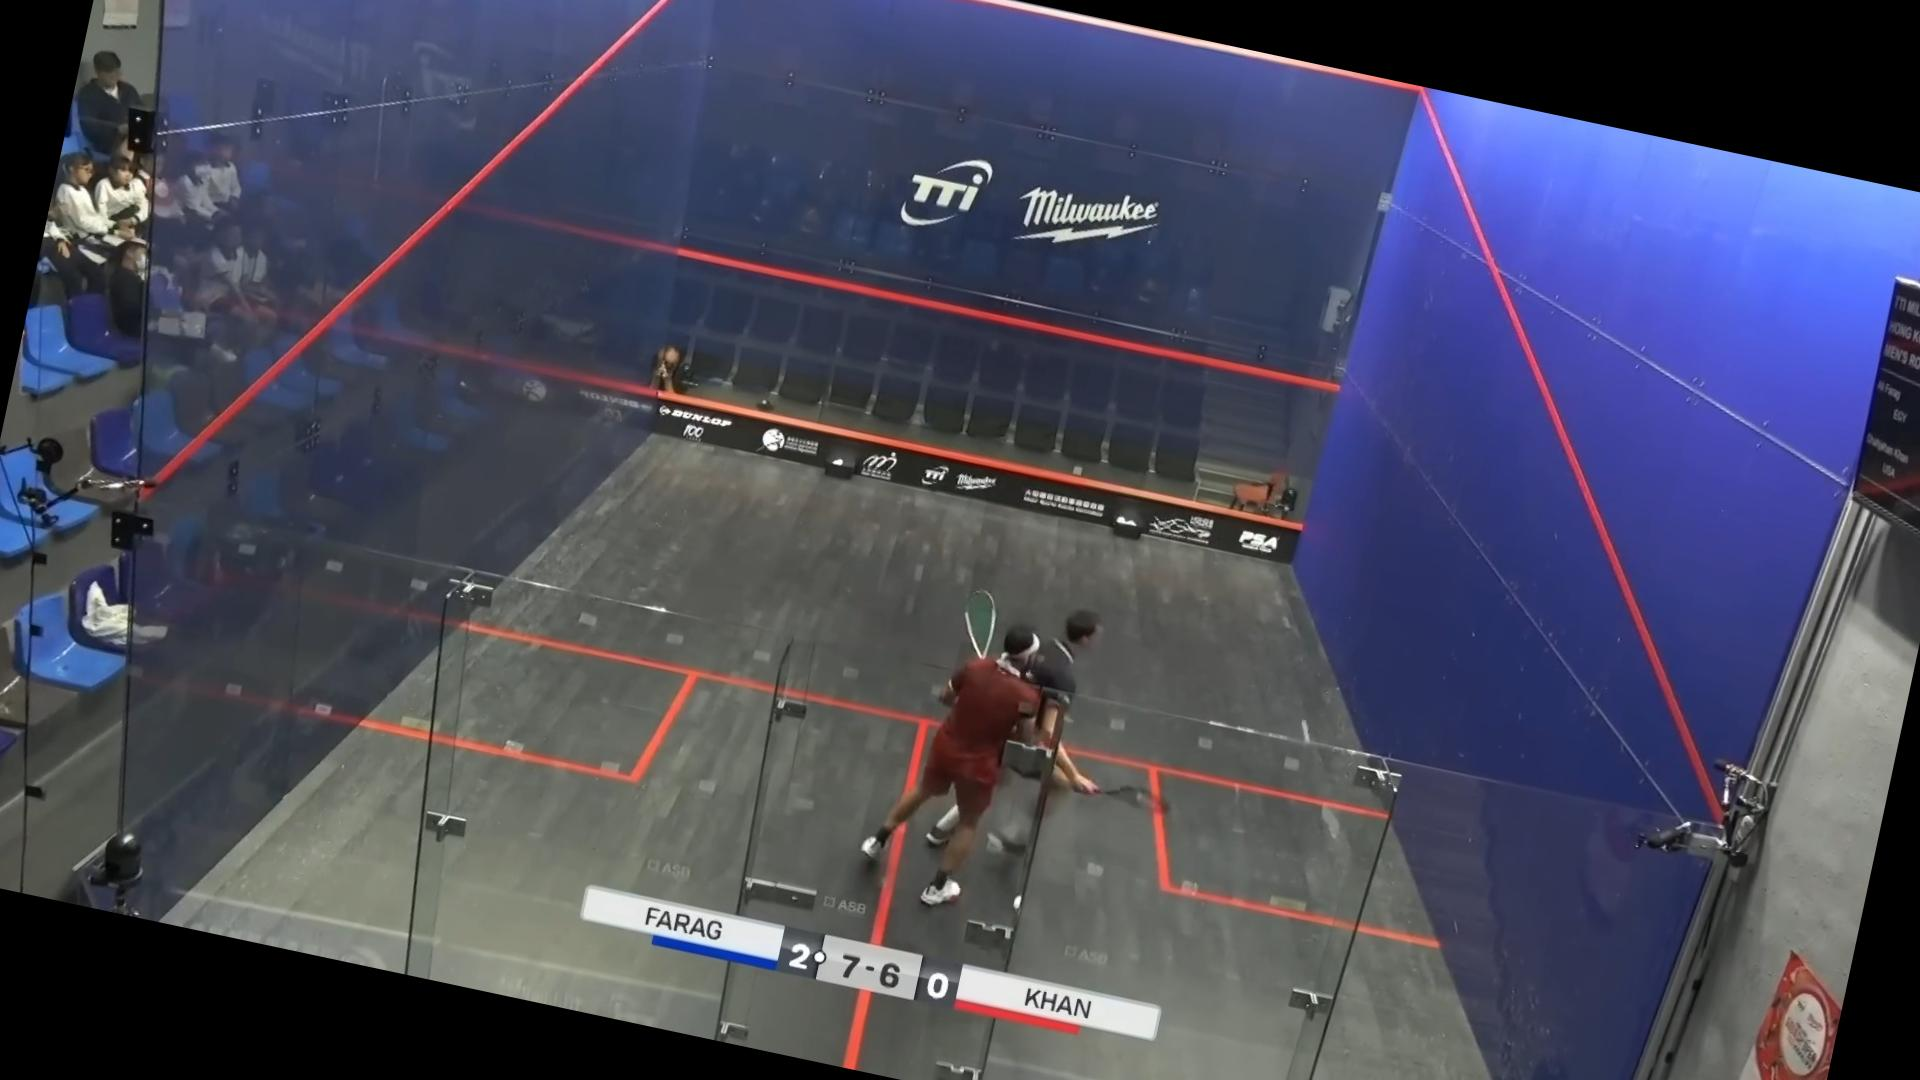Racket: (1046, 764, 1178, 836), (952, 585, 1004, 659)
